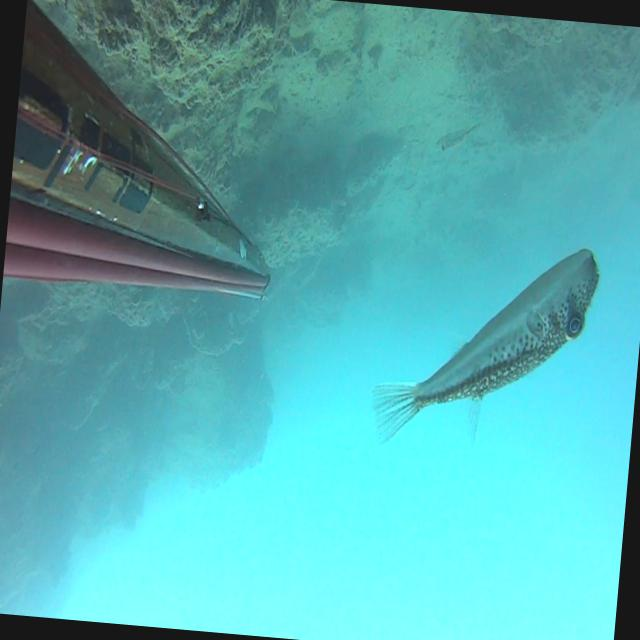Balon Baligi: (365, 228, 602, 466), (436, 120, 479, 154)
